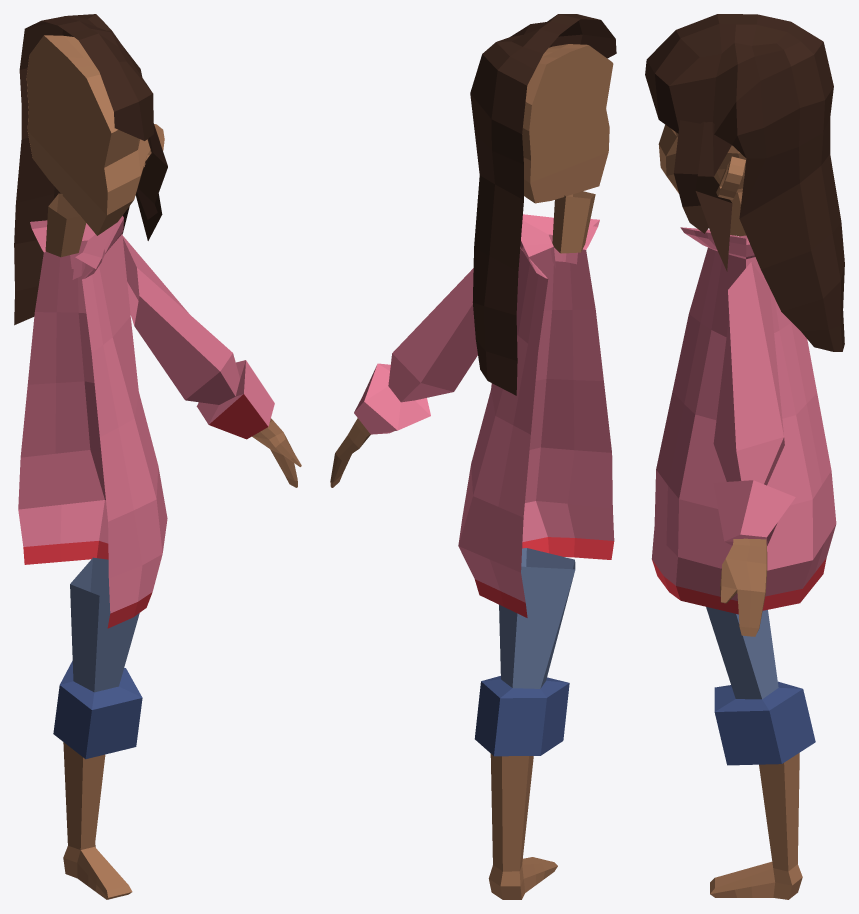
Rendered from girl.glb.
The picture shows the model from 3 angles, left to right: view 1: azimuth 30°, elevation 25°; view 2: azimuth 150°, elevation 25°; view 3: azimuth 270°, elevation 25°; orthographic projection.
Visible parts, largest first — view 1: Cube, Cylinder, Cube.001, Cube.003, Cylinder.001, Cylinder.002; view 2: Cube, Cylinder, Cube.003, Cube.001, Cylinder.001, Cylinder.002; view 3: Cube.003, Cube, Cylinder.001, Cylinder, Cube.001, Cube.002, Cylinder.002.
Boxes of the visible parts, box(x1,y1,x2,y2) form: Cube: box(18, 216, 167, 628); Cylinder: box(53, 557, 142, 899); Cube.001: box(26, 35, 148, 235); Cube.003: box(14, 14, 167, 325); Cylinder.001: box(122, 236, 301, 487); Cylinder.002: box(45, 193, 86, 257); Cube: box(458, 214, 614, 617); Cylinder: box(474, 548, 575, 899); Cube.003: box(470, 14, 616, 395); Cube.001: box(522, 44, 613, 203); Cylinder.001: box(330, 268, 477, 487); Cylinder.002: box(552, 191, 595, 253); Cube.003: box(645, 14, 844, 351); Cube: box(651, 227, 836, 614); Cylinder.001: box(713, 262, 795, 636); Cylinder: box(706, 607, 815, 899); Cube.001: box(658, 124, 746, 193); Cube.002: box(716, 156, 746, 200); Cylinder.002: box(730, 192, 745, 236).
Bounding box in the file's own units: 1.15 × 3.76 × 0.792.
